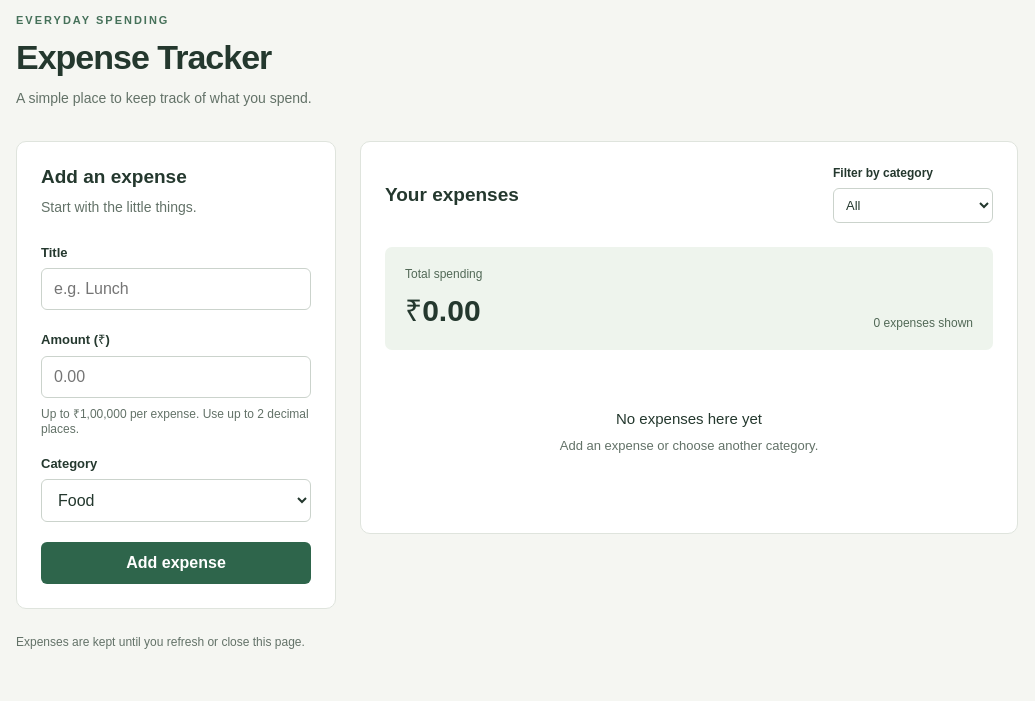
expense tracker › does not add invalid amount abc
In the field labelled "Title": (176, 289) [41,268,311,310], type "Lunch"
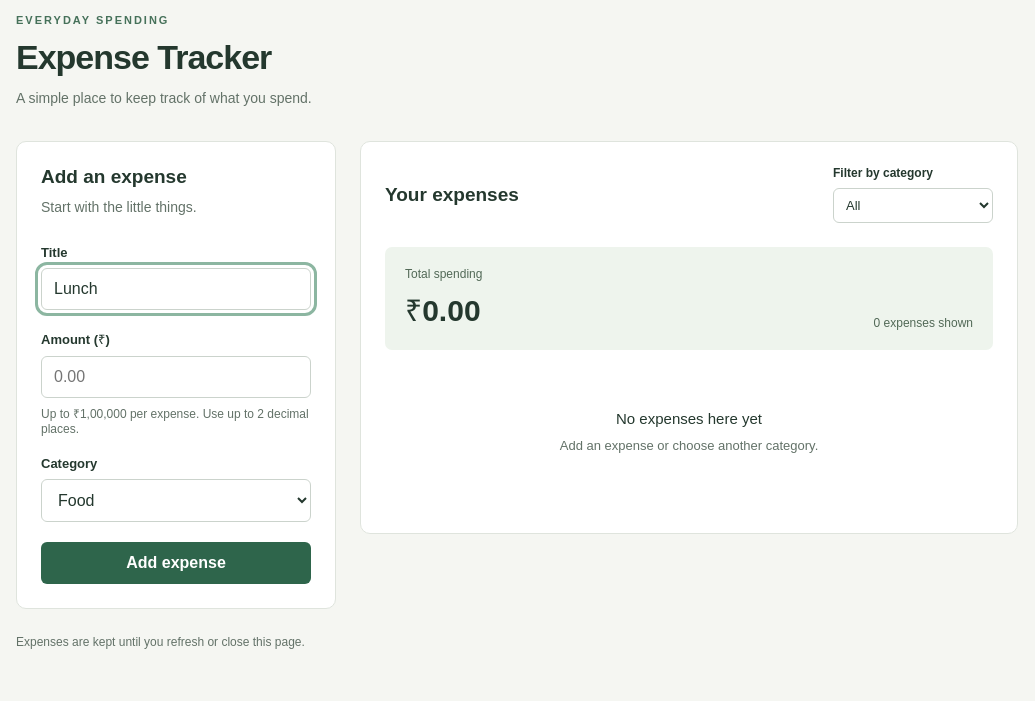
In the field labelled "Amount (₹)": (176, 377) [41,356,311,398], type "abc"
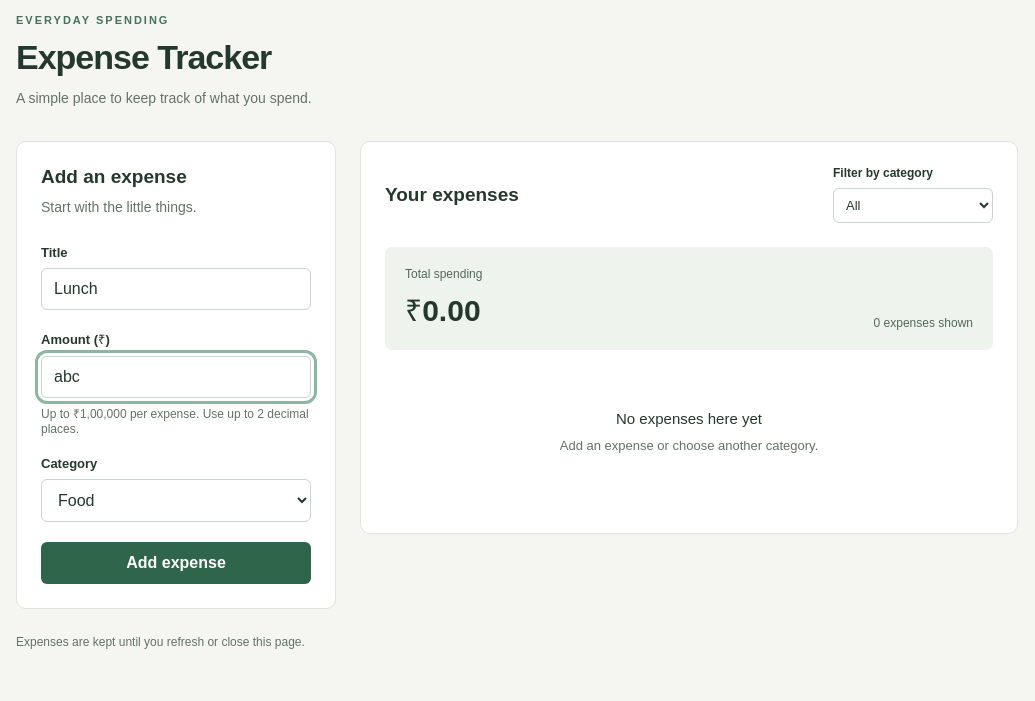
Select "Food" in the dropdown labelled "Category": (176, 500) [41,479,311,522]
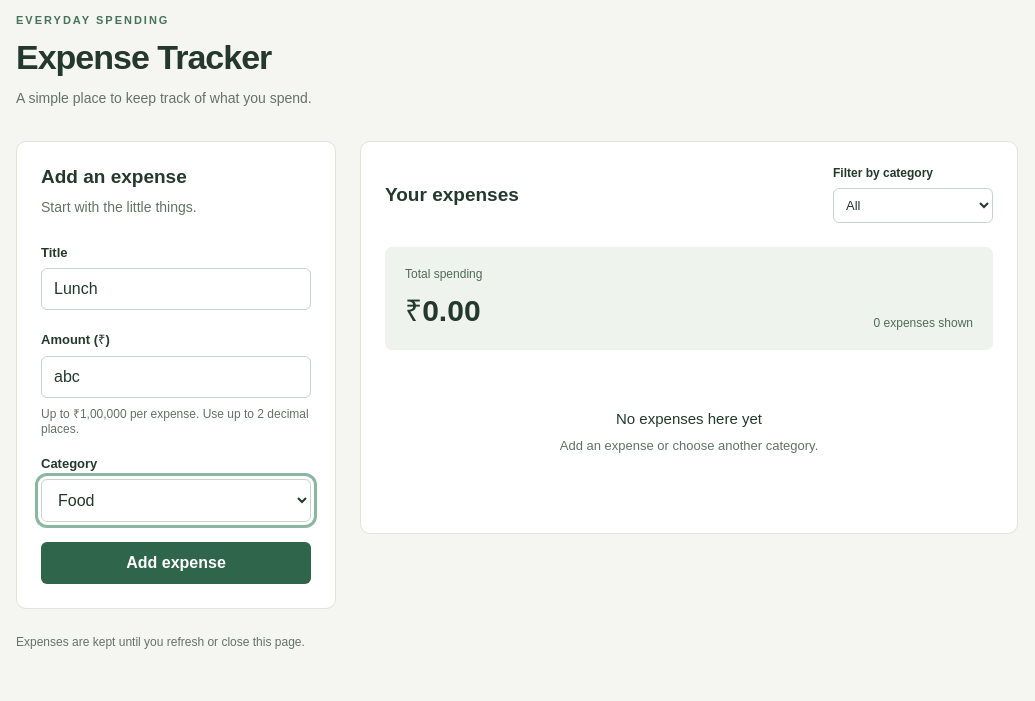
Click the button "Add expense": (176, 563) [41,542,311,584]
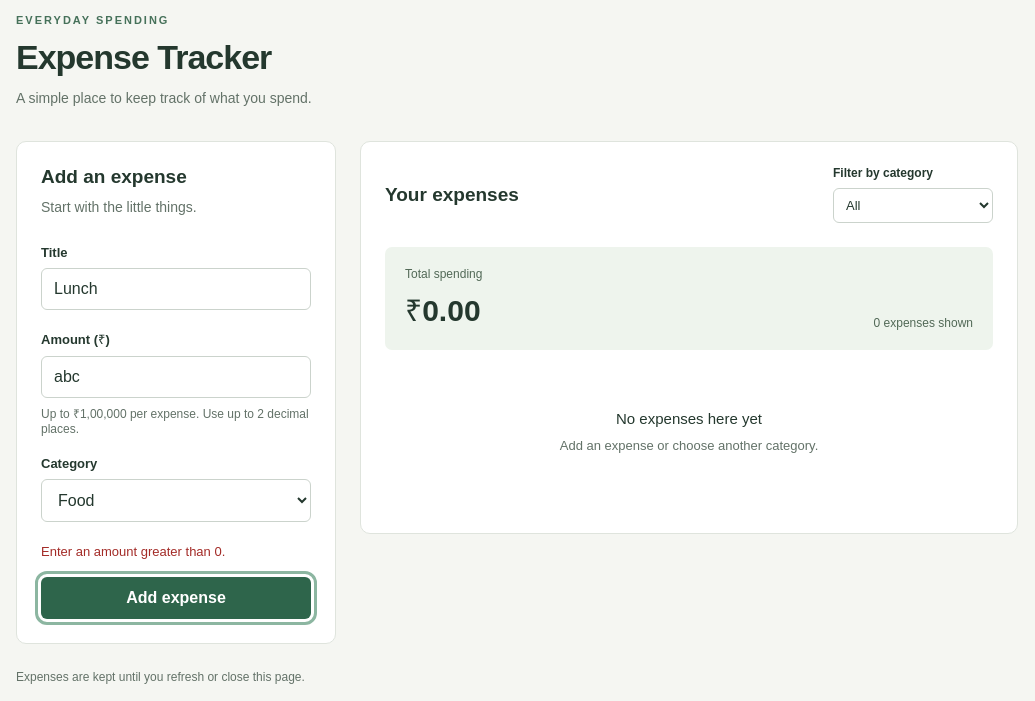
Check: the text "₹0.00" is shown, box [405,289,482,330]
Check: the message "Enter an amount greater than 0." is shown, box [41,544,225,559]
